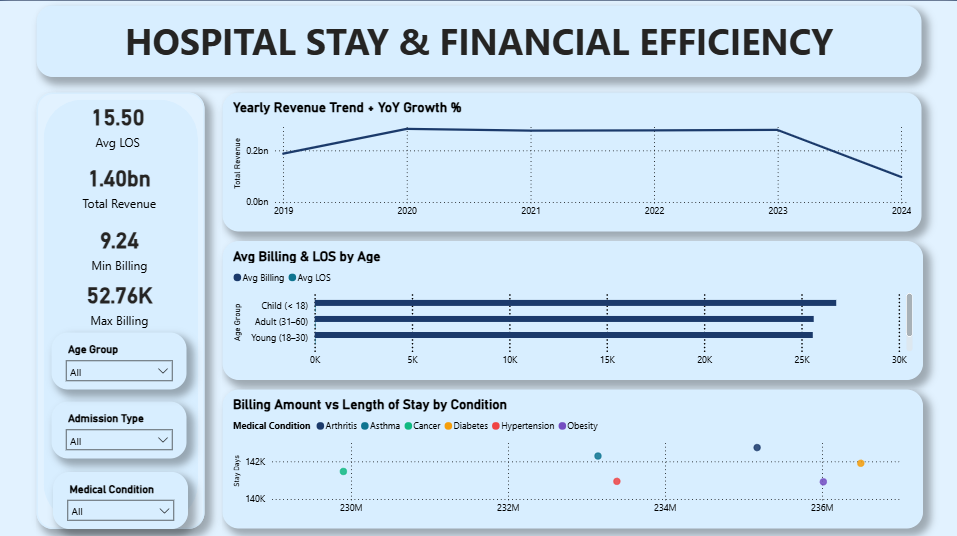

Layout of this report page (visuals, bound fields, positions):
{"tool":"powerbi","page":{"name":"Page 7","canvas":[1280,720],"ordinal":6},"visuals":[{"type":"shape","box":[50,122,224,582],"z":0},{"type":"lineChart","title":"Yearly Revenue Trend + YoY Growth %","fields":{"Category":["healthcare_final_clean.admission_date.Variation.Date Hierarchy.Year"],"Y":["healthcare_final_clean.Total Revenue"]},"box":[298,122,932,185],"z":1000},{"type":"slicer","fields":{"Values":["healthcare_final_clean.admission_type"]},"box":[70,534,180,76],"z":2000},{"type":"slicer","fields":{"Values":["healthcare_final_clean.medical_condition"]},"box":[72,628,180,76],"z":3000},{"type":"slicer","fields":{"Values":["healthcare_final_clean.age_group"]},"box":[70,442,180,76],"z":4000},{"type":"textbox","box":[50,5,1180,95],"z":5000},{"type":"clusteredBarChart","title":"Avg Billing & LOS by Age","fields":{"Y":["healthcare_final_clean.Avg Billing","healthcare_final_clean.Avg LOS"],"Category":["healthcare_final_clean.age_group"]},"box":[298,320,934,185],"z":6000},{"type":"scatterChart","title":"Billing Amount vs Length of Stay by Condition","fields":{"X":["Sum(healthcare_final_clean.billing_amount)"],"Y":["Sum(healthcare_final_clean.stay_days)"],"Series":["healthcare_final_clean.medical_condition"]},"box":[298,518,934,185],"z":7000},{"type":"card","fields":{"Values":["Min(healthcare_final_clean.billing_amount)"]},"box":[68,286,184,82],"z":8000},{"type":"card","fields":{"Values":["healthcare_final_clean.Total Revenue"]},"box":[68,204,184,82],"z":9000},{"type":"card","fields":{"Values":["healthcare_final_clean.Avg LOS"]},"box":[66,122,184,82],"z":10000},{"type":"card","fields":{"Values":["Max(healthcare_final_clean.billing_amount)"]},"box":[68,360,184,82],"z":11000}]}

Visuals, with their boxes in screenshot pixels (x1, y1, x2, y2), scaled from the page's 1280x720 canvas onto the 957x536 screenshot:
shape: [37,91,205,524]
"Yearly Revenue Trend + YoY Growth %" lineChart: [223,91,920,229]
slicer - healthcare_final_clean.admission_type: [52,398,187,454]
slicer - healthcare_final_clean.medical_condition: [54,468,188,524]
slicer - healthcare_final_clean.age_group: [52,329,187,386]
textbox: [37,4,920,74]
"Avg Billing & LOS by Age" clusteredBarChart: [223,238,921,376]
"Billing Amount vs Length of Stay by Condition" scatterChart: [223,386,921,523]
card - Min(healthcare_final_clean.billing_amount): [51,213,188,274]
card - healthcare_final_clean.Total Revenue: [51,152,188,213]
card - healthcare_final_clean.Avg LOS: [49,91,187,152]
card - Max(healthcare_final_clean.billing_amount): [51,268,188,329]
